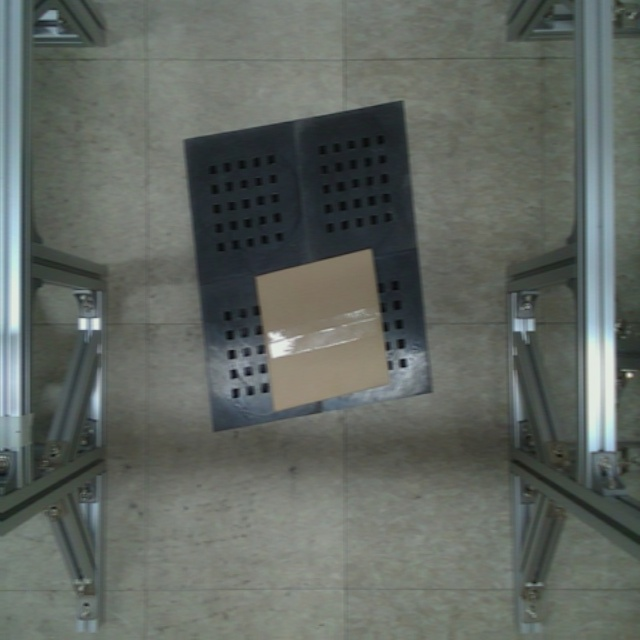box: (256, 248, 390, 416)
pallet: (174, 89, 441, 452)
